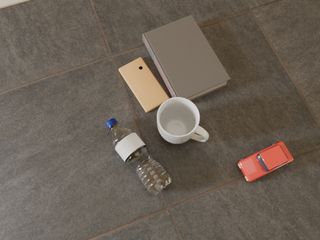book: (143, 15, 231, 101)
bottle: (106, 118, 172, 195)
cup: (157, 97, 209, 144)
phone: (119, 57, 169, 112)
toy_car: (238, 142, 293, 182)
